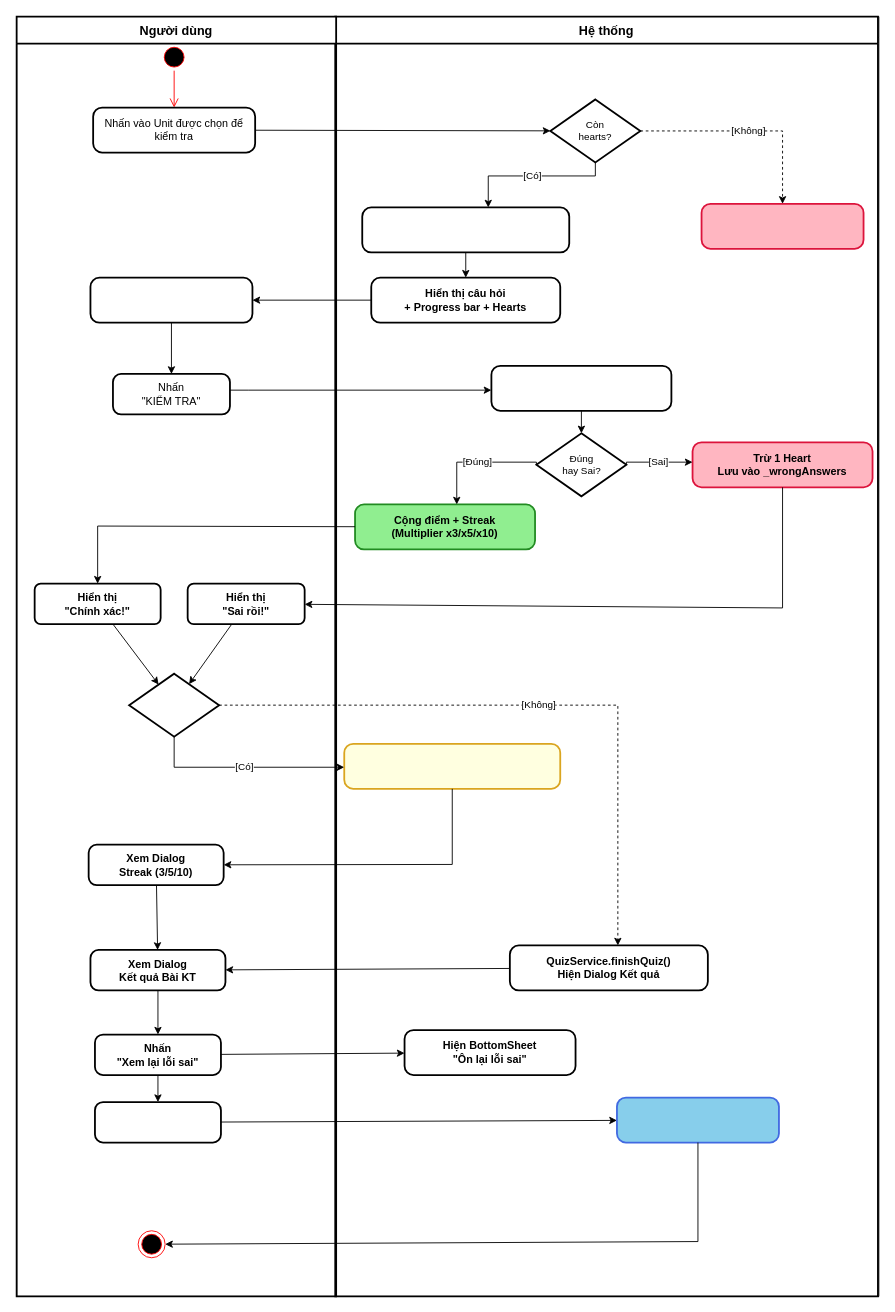
Image size: 895x1312. Some labels were removed from this diagram. Here are the shapes that lost their labels. From the top down, the centre of each, then its label:
the point at 465,229: QuestionService getQuestionsByUnit()
the point at 782,225: Hiện Dialog "Hết tim"
the point at 171,299: Trả lời câu hỏi (Chọn/Nhập/Sắp xếp)
the point at 581,387: Kiểm tra đáp án (So sánh + Tính điểm)
the point at 174,704: Đạt Streak?
the point at 452,765: Hiện Dialog "CHÁY QUÁ!/XUẤT SẮC!/THẦN THÁNH!"
the point at 157,1122: Nhấn "TUYỆT VỜI"
the point at 697,1119: Quay về màn hình Từ vựng
